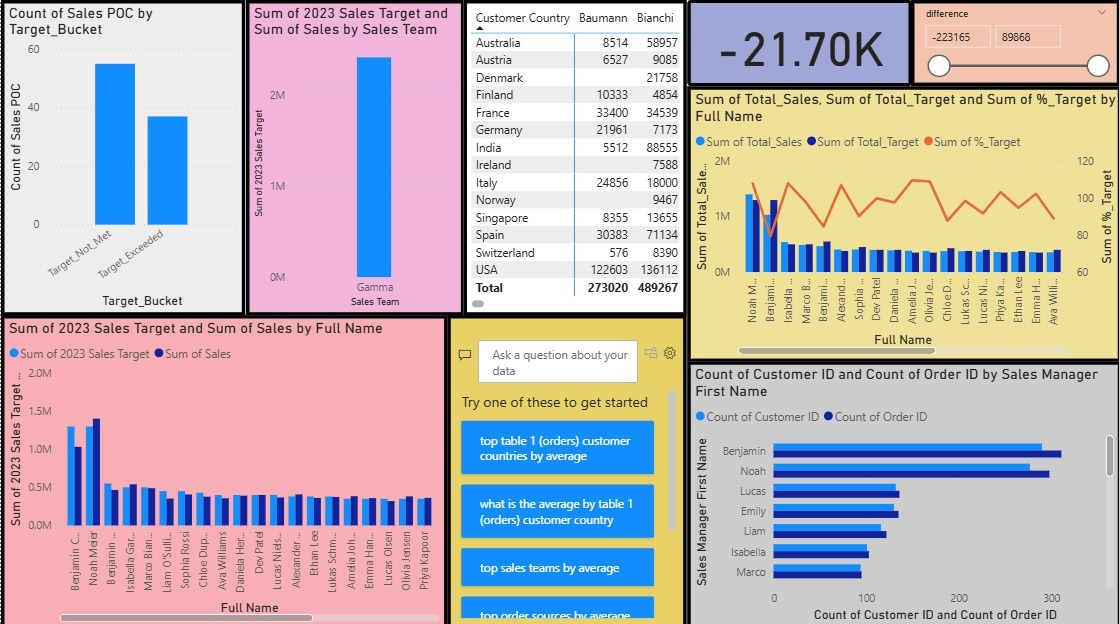

The page's visual inventory and layout, read from the dashboard file:
{"tool":"powerbi","page":{"name":"Sales Team","canvas":[1280,720],"ordinal":0},"visuals":[{"type":"columnChart","fields":{"Category":["Sales Targets.Target_Check"],"Y":["Sales Targets.Sales POC"]},"box":[0,0,278.8,360.7],"z":0},{"type":"clusteredColumnChart","fields":{"Category":["Sales Targets.Full Name"],"Y":["Sales Targets.2023 Sales Target","Sales Targets.Sales"]},"box":[0,360.6,510.3,359.2],"z":1000},{"type":"columnChart","fields":{"Category":["Sales Targets.Sales Team"],"Y":["Sales Targets.2023 Sales Target"]},"box":[279.4,0,249.4,360.6],"z":2000},{"type":"pivotTable","fields":{"Columns":["Sales Targets.Sales Manager Last Name"],"Rows":["Table 1 (Orders).Customer Country"],"Values":["Table 1 (Orders).Order Value"]},"box":[528.8,0,255.1,360.6],"z":3000},{"type":"lineClusteredColumnComboChart","fields":{"Y2":["Sales_Manager.%_Target"],"Category":["Sales_Manager.Full Name"],"Y":["Sales_Manager.Total_Sales","Sales_Manager.Total_Target"]},"box":[784,98.4,496,315],"z":4000},{"type":"card","fields":{"Values":["Sales Targets.Average"]},"box":[784,0,256.6,98.4],"z":5000},{"type":"clusteredBarChart","fields":{"Category":["Sales Targets.Sales Manager First Name"],"Y":["Table 1 (Orders).Customer ID","Table 1 (Orders).Order ID"]},"box":[784,413.4,496,306.5],"z":6000},{"type":"slicer","fields":{"Values":["Sales Targets.difference"]},"box":[1040.5,0,239.5,98.4],"z":7000},{"type":"qnaVisual","box":[510.3,360.6,273.7,359.2],"z":8000}]}

Visuals, with their boxes in screenshot pixels (x1, y1, x2, y2), scaled from the page's 1280x720 canvas onto the 1119x624 screenshot:
columnChart - Sales Targets.Target_Check x Sales Targets.Sales POC: (0, 0, 244, 313)
clusteredColumnChart - Sales Targets.Full Name x Sales Targets.2023 Sales Target: (0, 313, 446, 623)
columnChart - Sales Targets.Sales Team x Sales Targets.2023 Sales Target: (244, 0, 462, 313)
pivotTable - Sales Targets.Sales Manager Last Name x Table 1 (Orders).Customer Country: (462, 0, 685, 313)
lineClusteredColumnComboChart - Sales_Manager.%_Target x Sales_Manager.Full Name: (685, 85, 1118, 358)
card - Sales Targets.Average: (685, 0, 910, 85)
clusteredBarChart - Sales Targets.Sales Manager First Name x Table 1 (Orders).Customer ID: (685, 358, 1118, 623)
slicer - Sales Targets.difference: (910, 0, 1118, 85)
qnaVisual: (446, 313, 685, 623)
